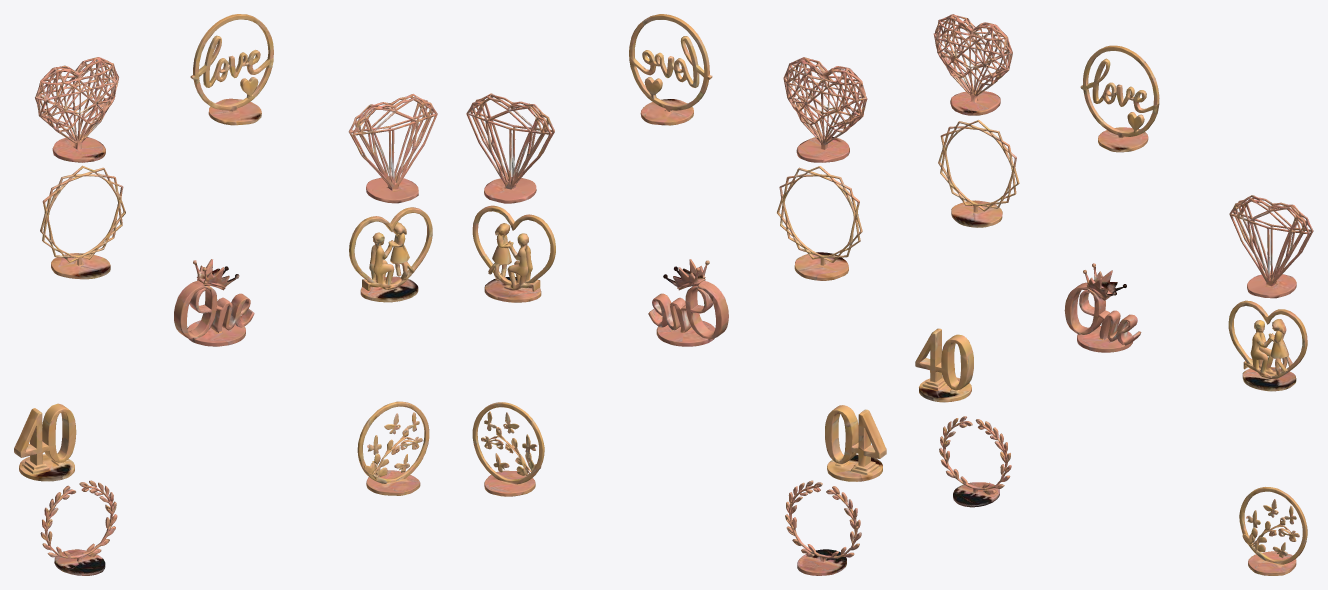
3 renders of one model, left to right at view 1: azimuth 30°, elevation 25°; view 2: azimuth 150°, elevation 25°; view 3: azimuth 330°, elevation 25°, orthographic. The views are drawn at different scales.
Parts seen in each view (by area): view 1: Mesh 16, Mesh 52, Mesh 35, Mesh 39, Mesh 51, Mesh 14, Mesh 61, Mesh 17, Mesh 18; view 2: Mesh 16, Mesh 52, Mesh 35, Mesh 39, Mesh 51, Mesh 14, Mesh 61, Mesh 17, Mesh 18; view 3: Mesh 16, Mesh 52, Mesh 51, Mesh 39, Mesh 35, Mesh 14, Mesh 61, Mesh 17, Mesh 18.
Boxes of the visible parts, x1,y1,x2,y2 form: Mesh 16: [35, 57, 118, 162]; Mesh 52: [348, 94, 437, 203]; Mesh 35: [174, 259, 254, 346]; Mesh 39: [190, 14, 273, 125]; Mesh 51: [349, 207, 432, 302]; Mesh 14: [14, 403, 76, 481]; Mesh 61: [357, 401, 429, 495]; Mesh 17: [40, 165, 125, 279]; Mesh 18: [40, 480, 117, 575]; Mesh 16: [783, 57, 867, 162]; Mesh 52: [466, 93, 554, 203]; Mesh 35: [648, 259, 728, 346]; Mesh 39: [629, 14, 712, 125]; Mesh 51: [472, 205, 555, 302]; Mesh 14: [825, 405, 886, 481]; Mesh 61: [472, 402, 544, 496]; Mesh 17: [776, 166, 862, 280]; Mesh 18: [785, 480, 861, 575]; Mesh 16: [933, 14, 1012, 115]; Mesh 52: [1229, 195, 1313, 298]; Mesh 51: [1228, 300, 1307, 391]; Mesh 39: [1080, 45, 1159, 152]; Mesh 35: [1064, 263, 1141, 352]; Mesh 14: [915, 328, 973, 402]; Mesh 61: [1239, 487, 1307, 575]; Mesh 17: [938, 120, 1019, 227]; Mesh 18: [939, 416, 1011, 507].
Size of the model in its own units: 1.56 by 1.83 by 0.1875.
Materials: 10 (10 with a texture image).
